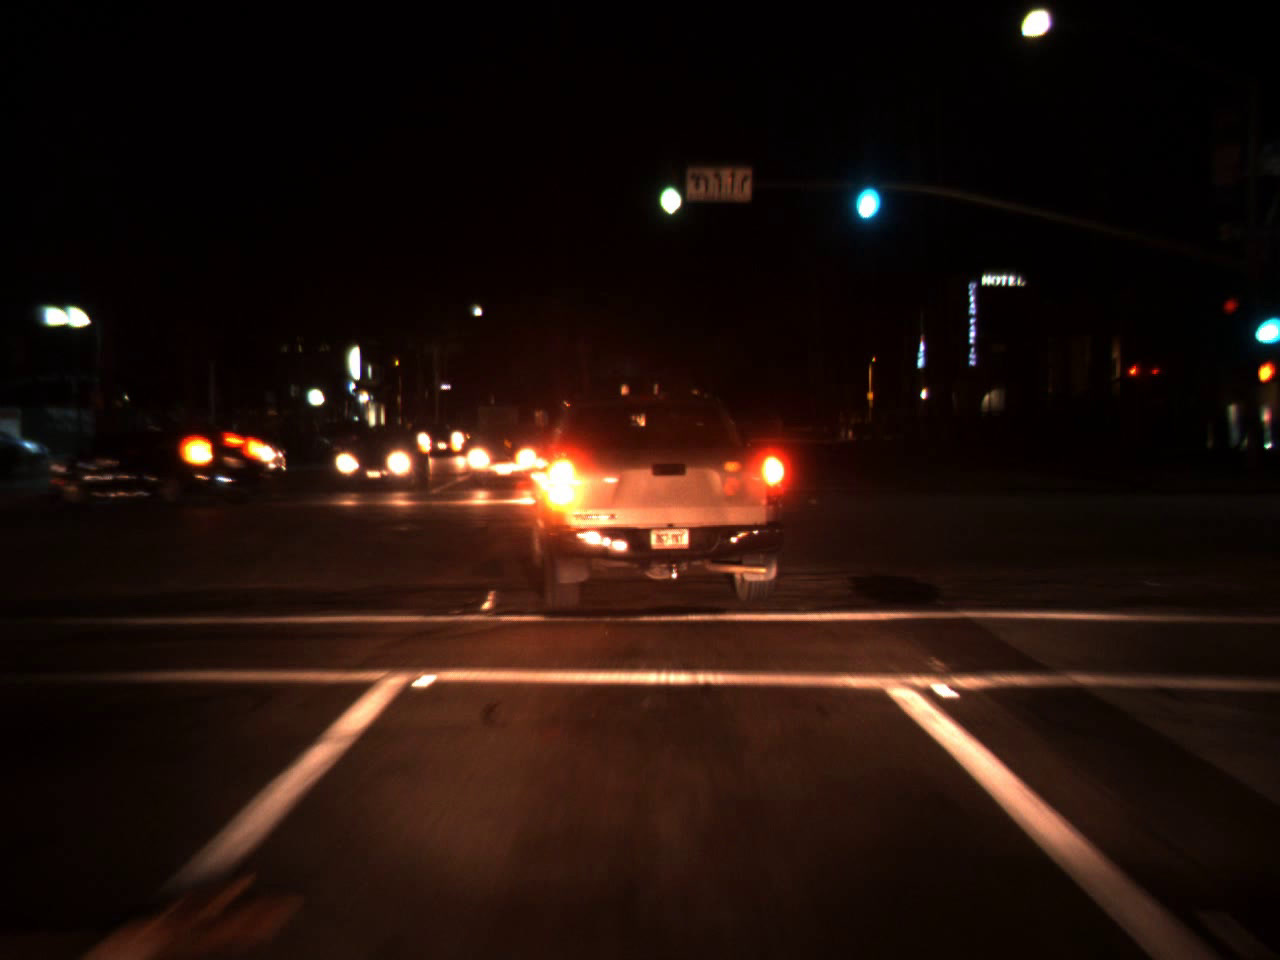go: (846, 149, 885, 230), (1244, 288, 1280, 354), (653, 155, 685, 224)
